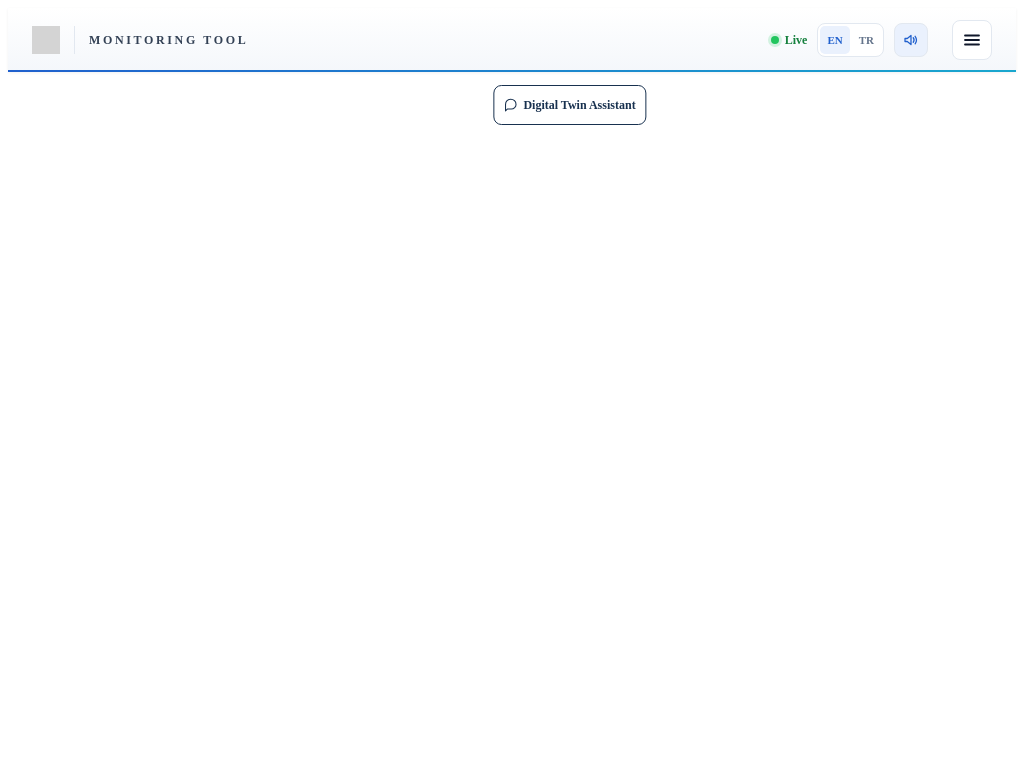
Test: one navbar selector drives chat, tour, navigation and the persisted app preference
The image size is (1024, 768).
Later steps or results of the test are not shown.
Click the button with class "guide-chat-button".
click(570, 105)  # box [493, 85, 647, 125]
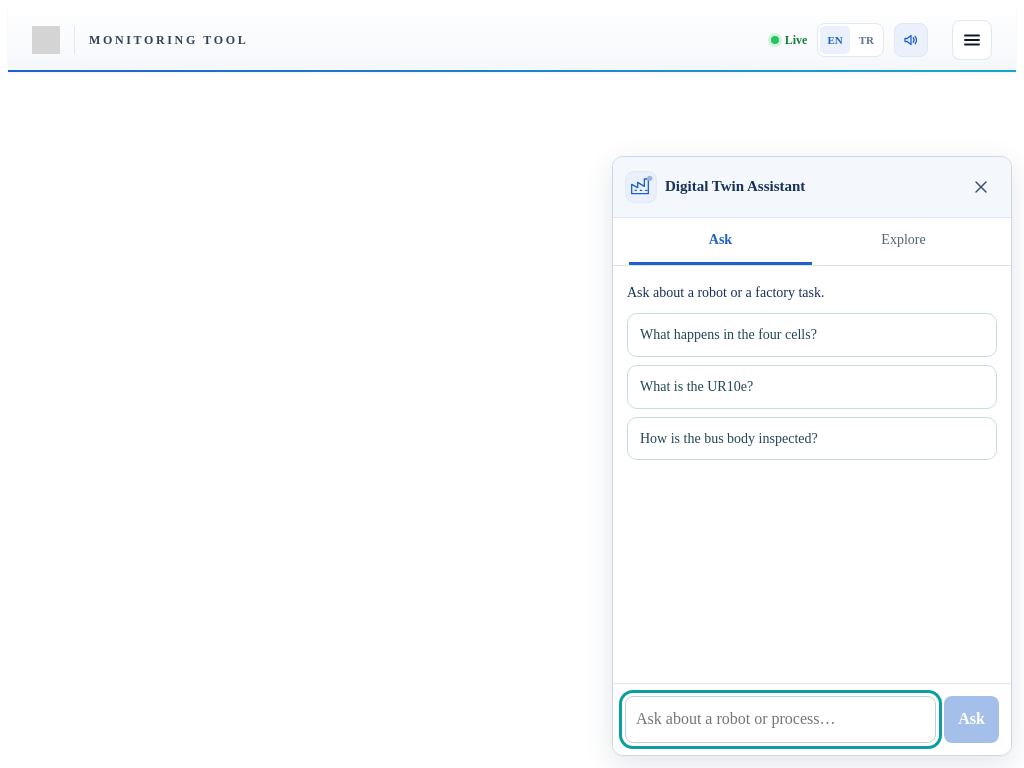
Check: the heading "Digital Twin Assistant" is shown, box [665, 178, 805, 194]
Click the button "What happens in the four cells?".
click(812, 335)  # box [627, 313, 997, 357]
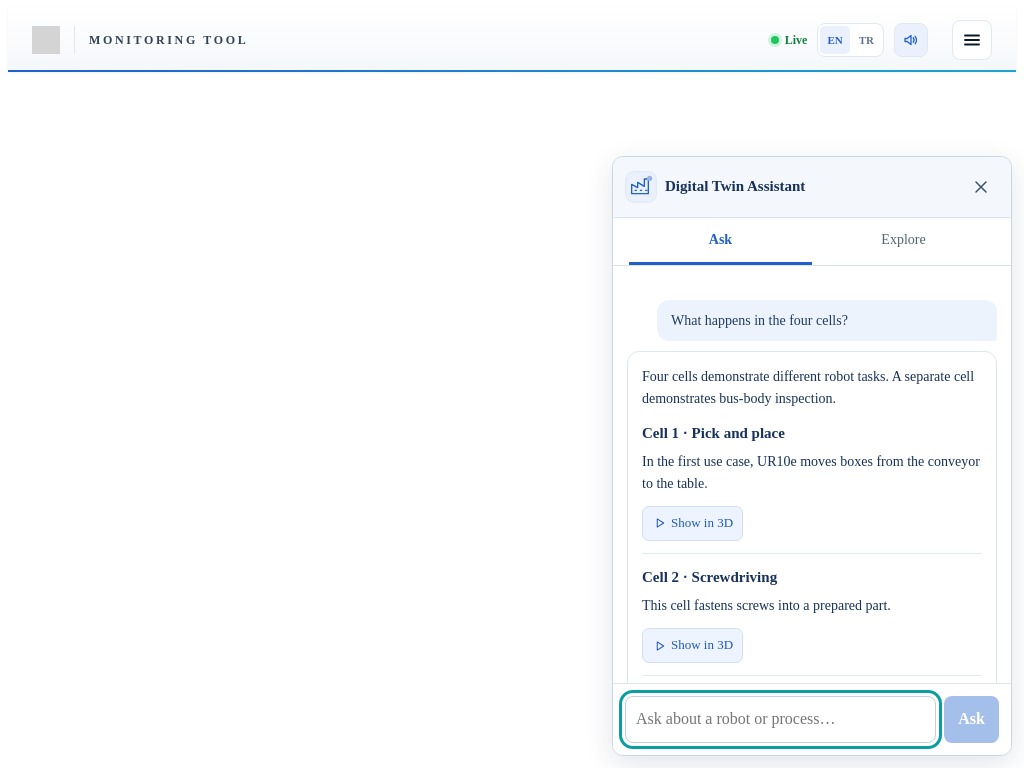
Check: the heading "Cell 1 · Pick and place" is shown, box [642, 425, 785, 441]
Click the button "TR".
click(866, 40)  # box [852, 26, 881, 54]
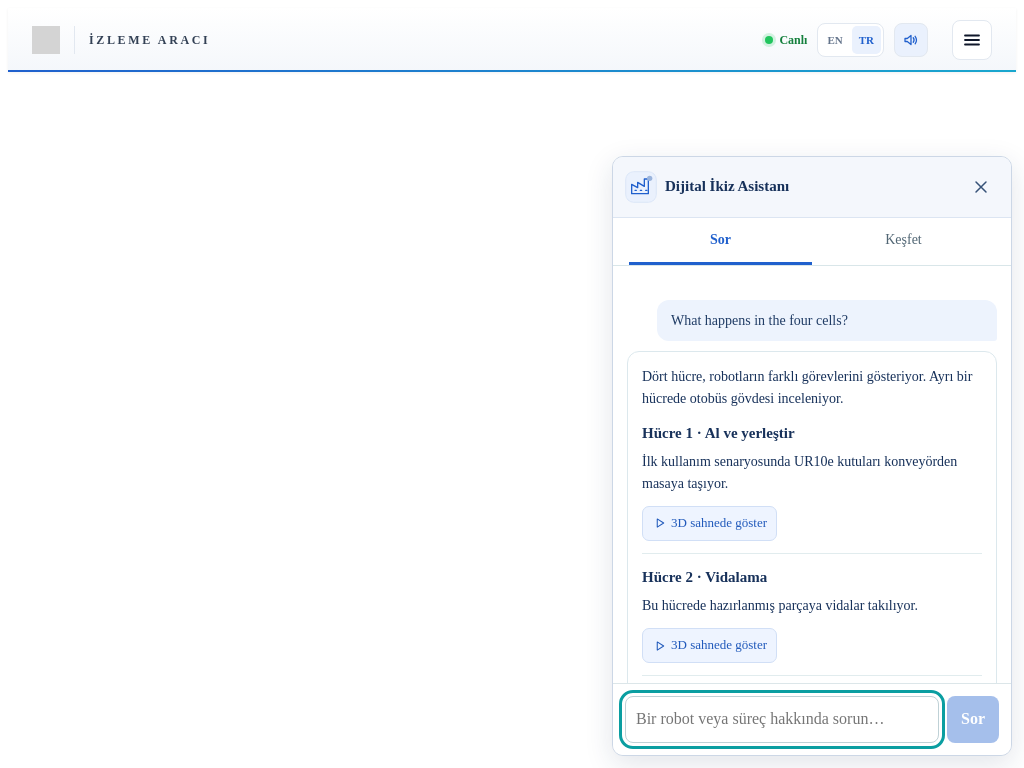
Check: the text with class "guide-user-message" reads "What happens in the four cells?", box [671, 313, 848, 328]
Check: the heading "Hücre 1 · Al ve yerleştir" is shown, box [642, 425, 795, 441]
